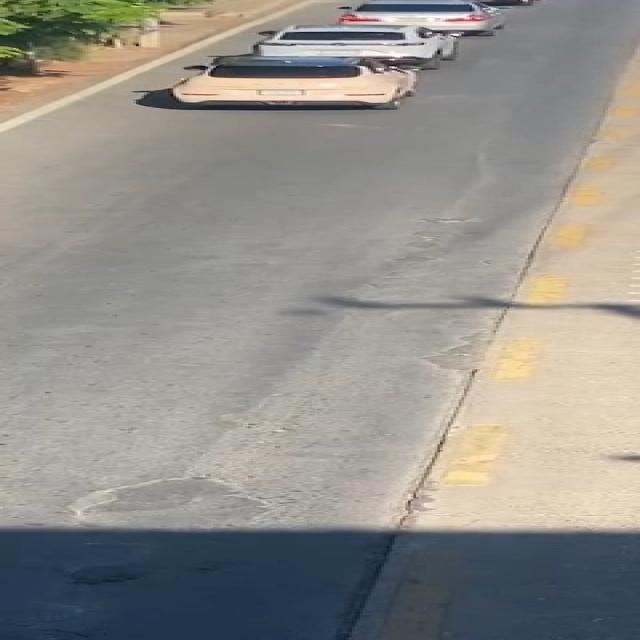car: (156, 52, 457, 110), (232, 22, 480, 69), (328, 0, 526, 37)
